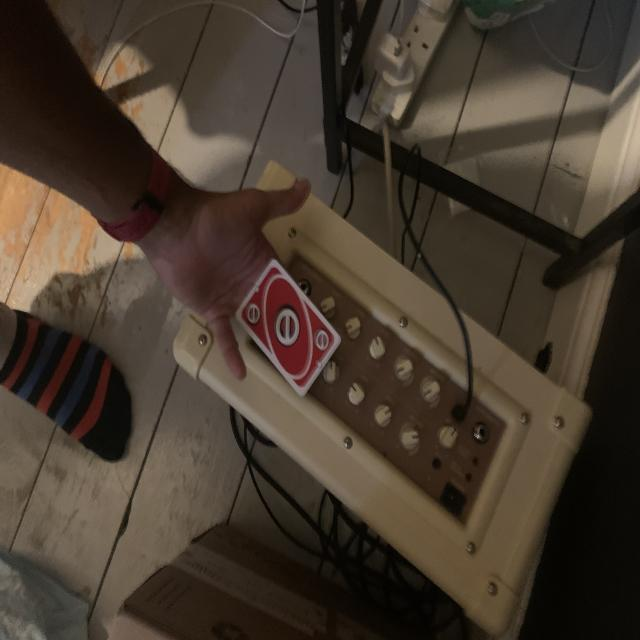lredskip-20: (244, 301, 264, 324)
